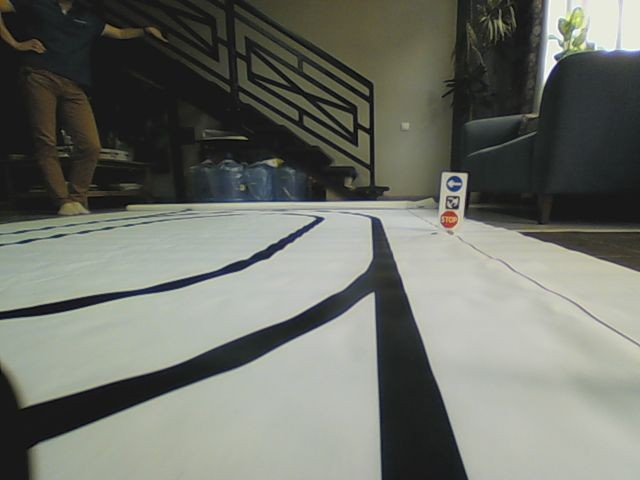Stop: (438, 210, 458, 229)
